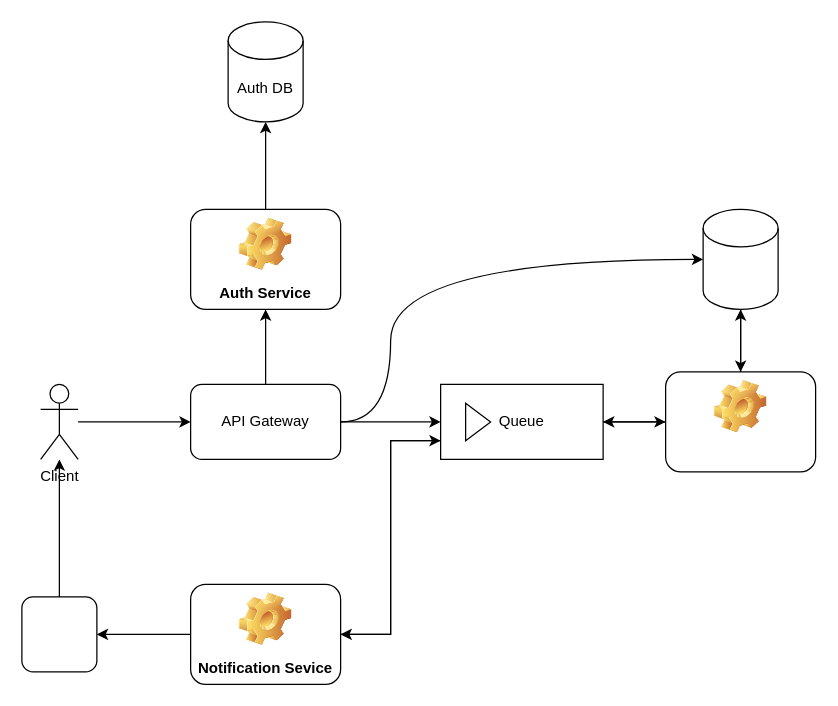
Image size: 838x706. Some labels were removed from this diagram. The box of each missing label's shape, as (x1, y1, x2, y2) in pixels:
Client`s Em ail: (21, 596, 97, 672)
Converter Service: (664, 371, 816, 472)
Video Storage: (702, 208, 778, 309)
